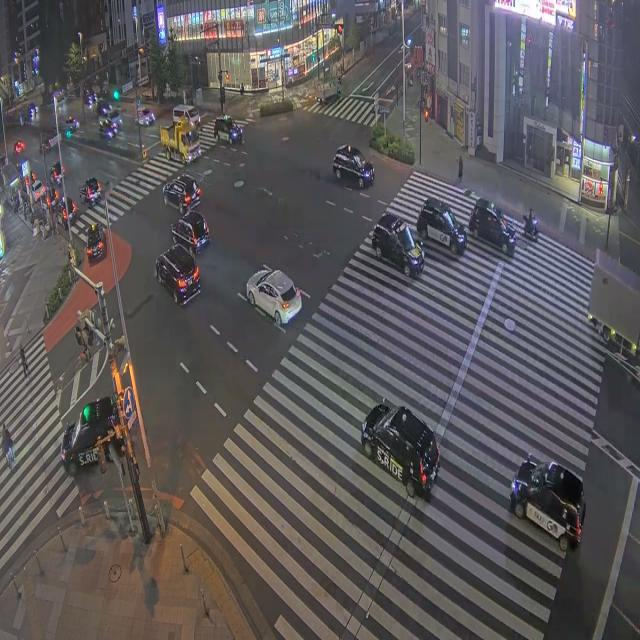car: (361, 402, 439, 498), (510, 456, 585, 551), (61, 396, 123, 475), (372, 214, 424, 277), (247, 270, 301, 326), (417, 198, 466, 255), (469, 199, 516, 256), (156, 245, 200, 305), (333, 145, 374, 188), (172, 211, 209, 254), (163, 175, 201, 215), (52, 192, 77, 225), (86, 224, 106, 263), (214, 116, 242, 143), (80, 177, 102, 204), (99, 119, 117, 139), (104, 109, 121, 128), (50, 161, 64, 184), (138, 108, 155, 126), (32, 180, 46, 201), (96, 99, 112, 116), (83, 90, 97, 106), (27, 103, 39, 120), (65, 116, 78, 130), (39, 140, 51, 154), (14, 141, 25, 154)
motorcycle: (523, 215, 538, 240), (80, 187, 100, 205)
truck: (588, 250, 639, 359), (160, 120, 201, 164), (315, 80, 341, 104)
van: (173, 104, 200, 127)
